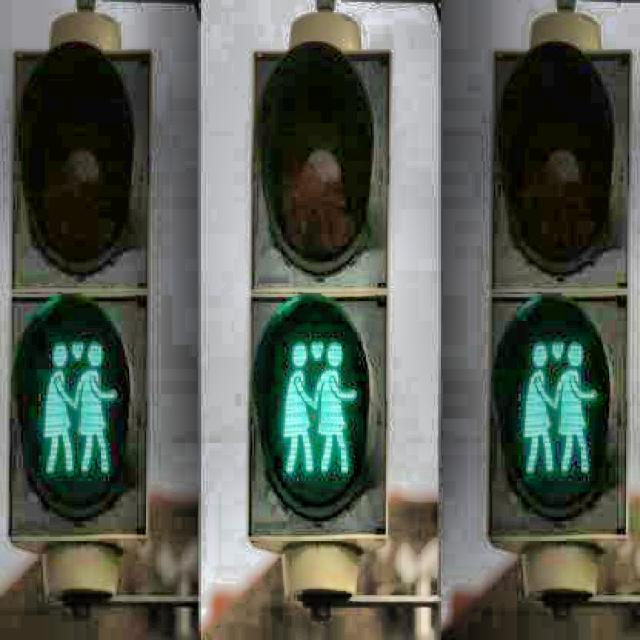semaforo pedestre: (236, 20, 462, 614), (5, 31, 193, 611), (472, 23, 640, 594)
